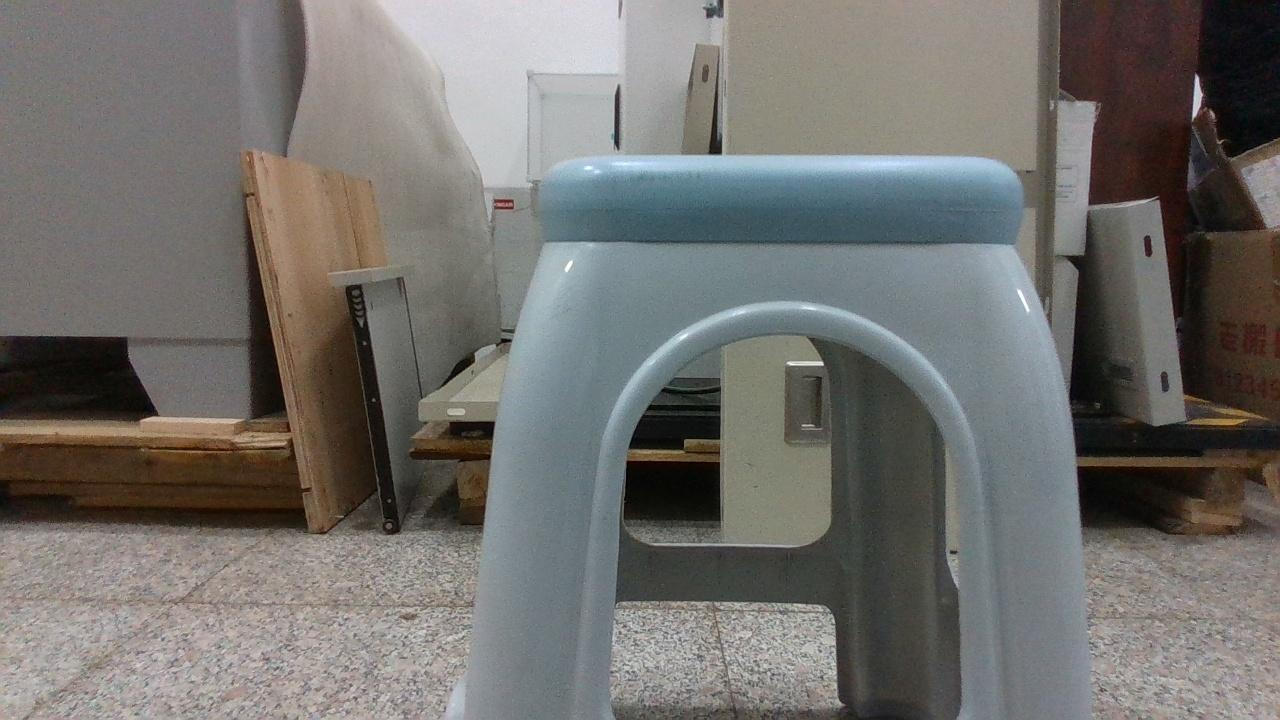stool: (450, 155, 1092, 718)
